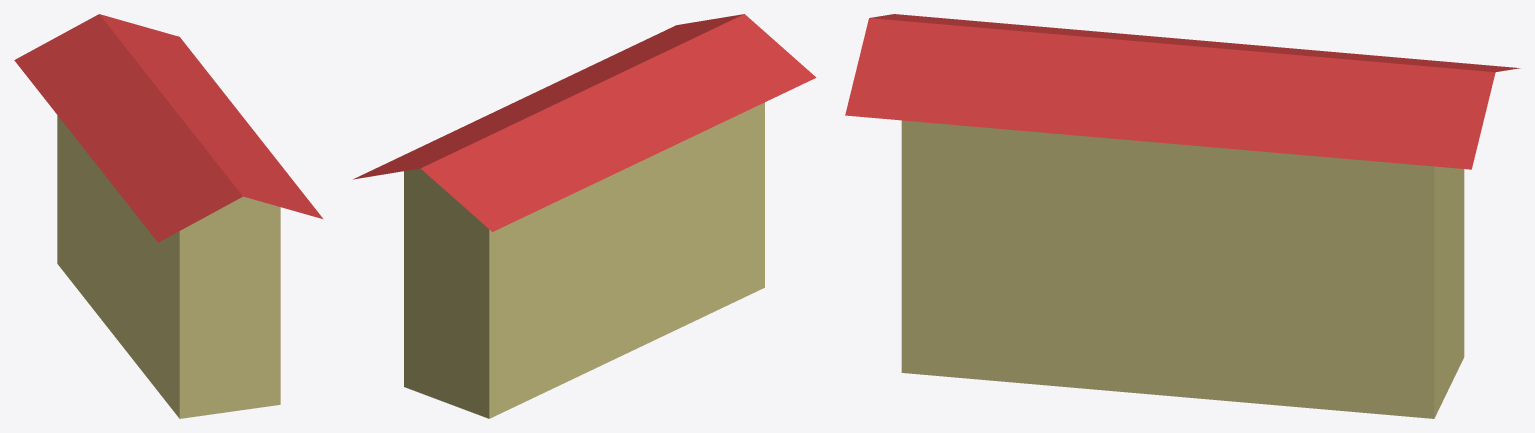
3 views of the same model, side by side, from view 1: azimuth 30°, elevation 25°; view 2: azimuth 150°, elevation 25°; view 3: azimuth 270°, elevation 25° (orthographic). The views are drawn at different scales.
Size of the model in its own units: 7.68 by 14.09 by 7.39.
